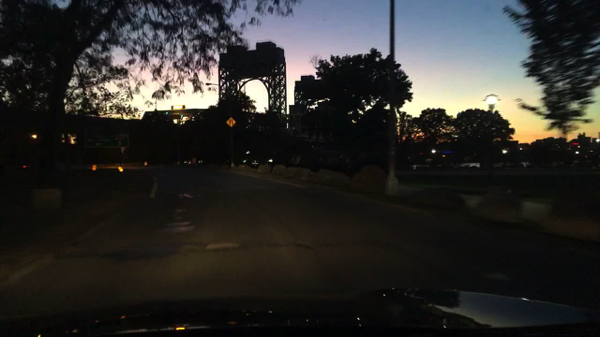car: (18, 154, 37, 169)
traffic sign: (85, 124, 128, 148), (225, 118, 236, 127), (91, 164, 97, 170), (118, 166, 124, 171)
